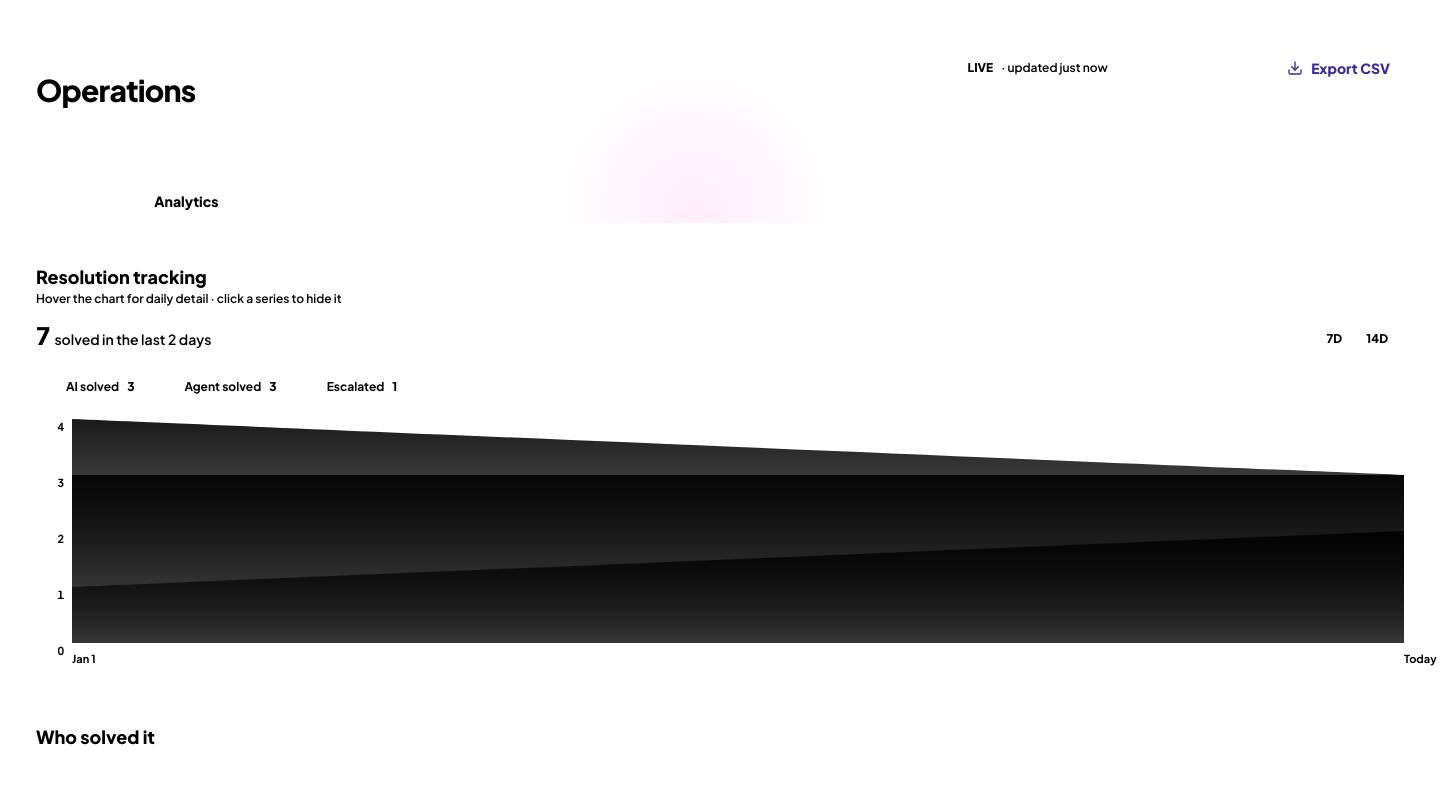
AdminDashboard › renders v2 freshness and the interactive resolution chart
The width and height of the screenshot is (1452, 801).
Click the button "AI solved 3" at (91, 386), box [36, 370, 146, 402]
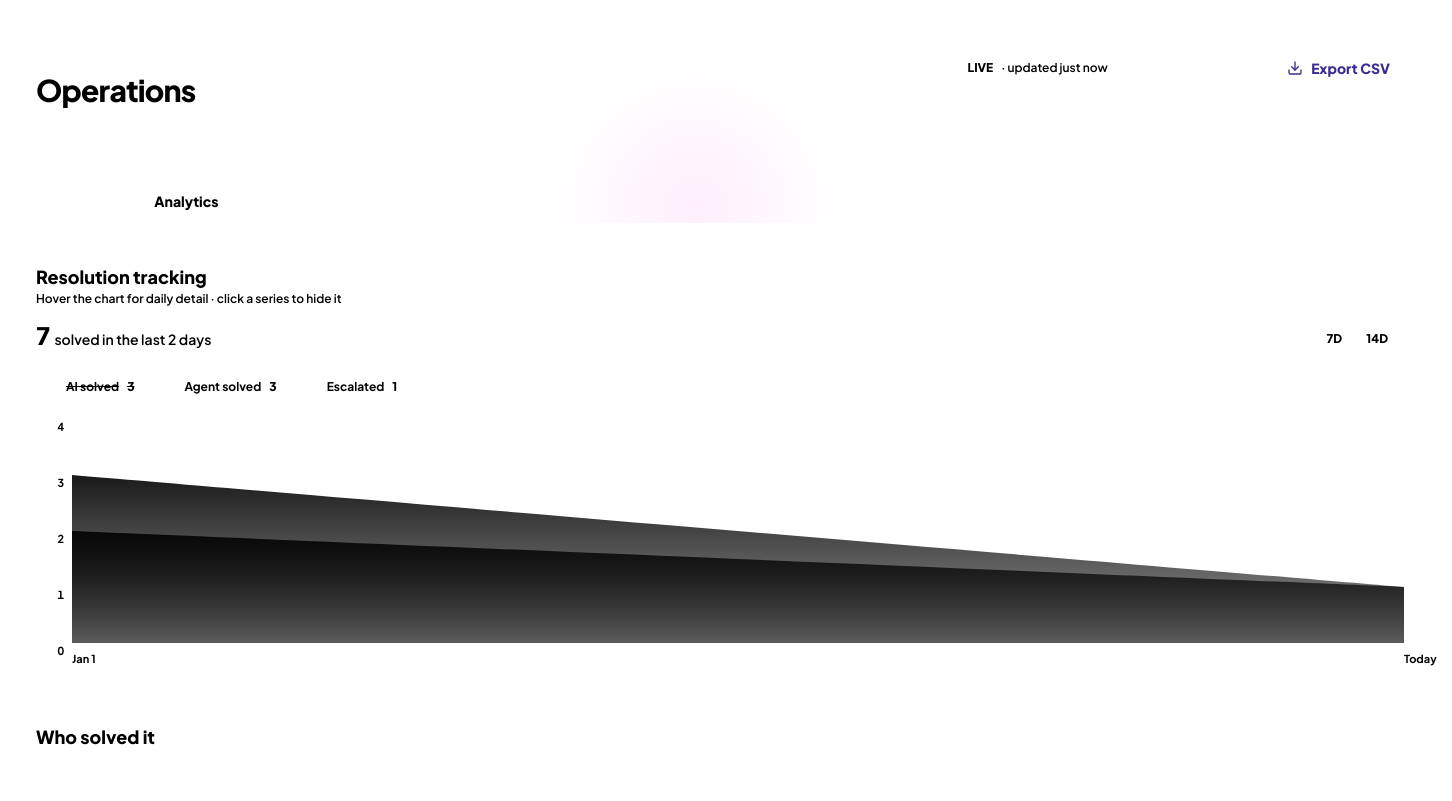
Expected: the button "AI solved 3" is not pressed, [36, 370, 146, 402]
Press ArrowLeft in the picture named "Fourteen day resolution tracking chart", box [72, 418, 1404, 642]
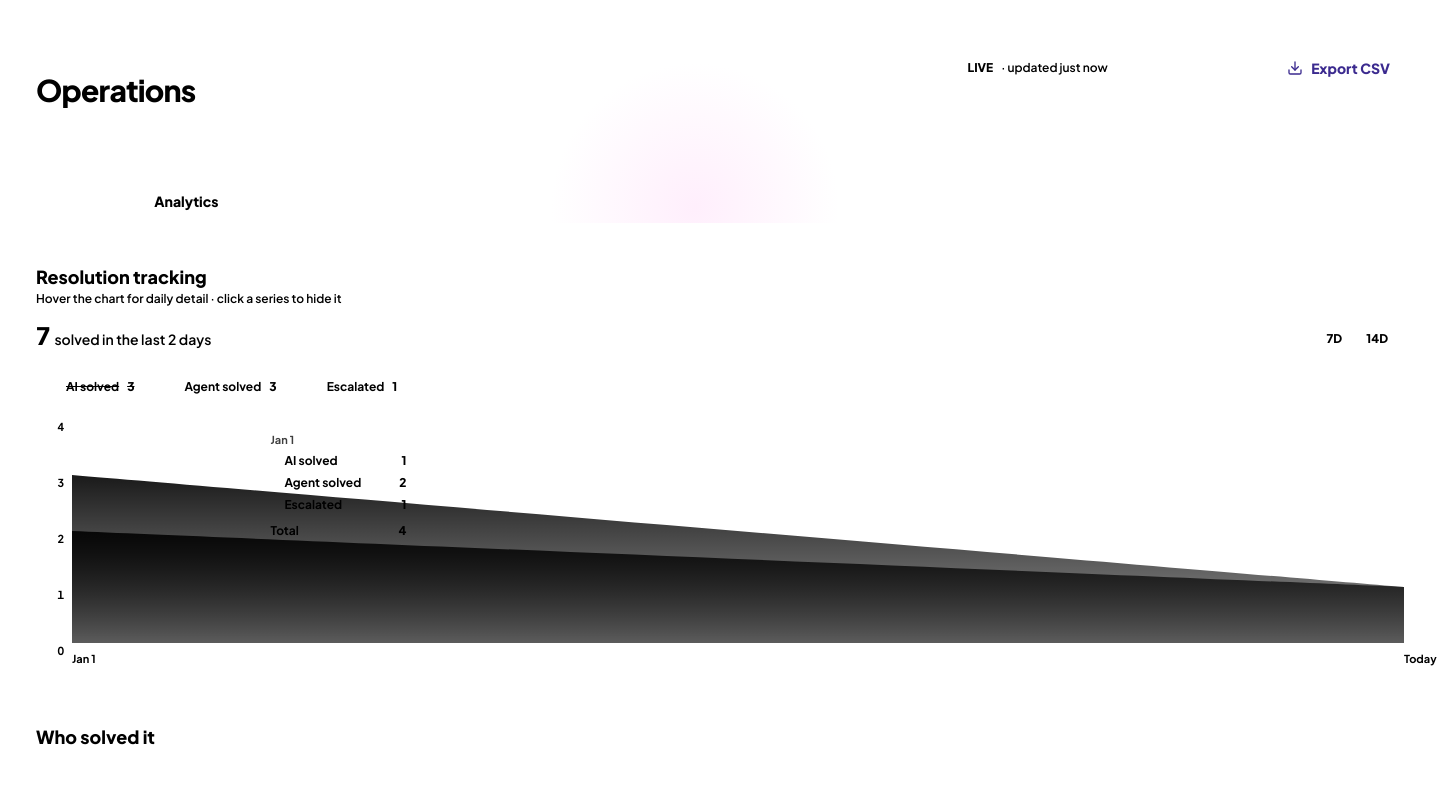
Expected: the text "Total" is shown, [270, 523, 299, 539]
